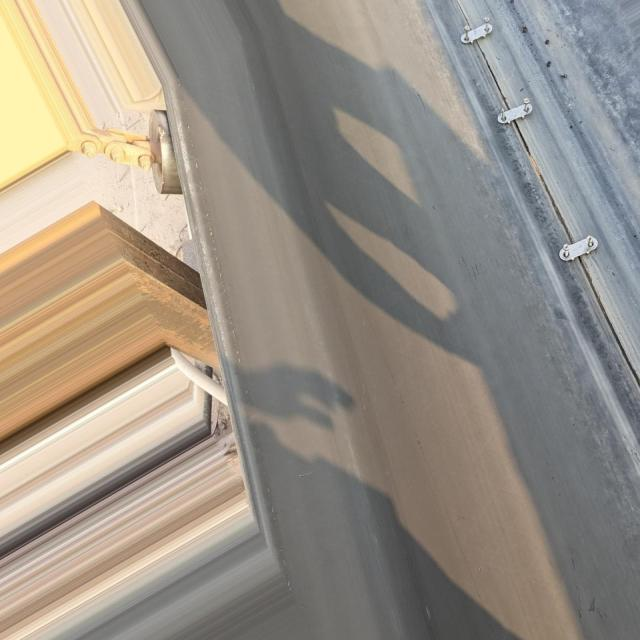Roller: (141, 111, 193, 193)
patch work: (452, 13, 640, 383)
